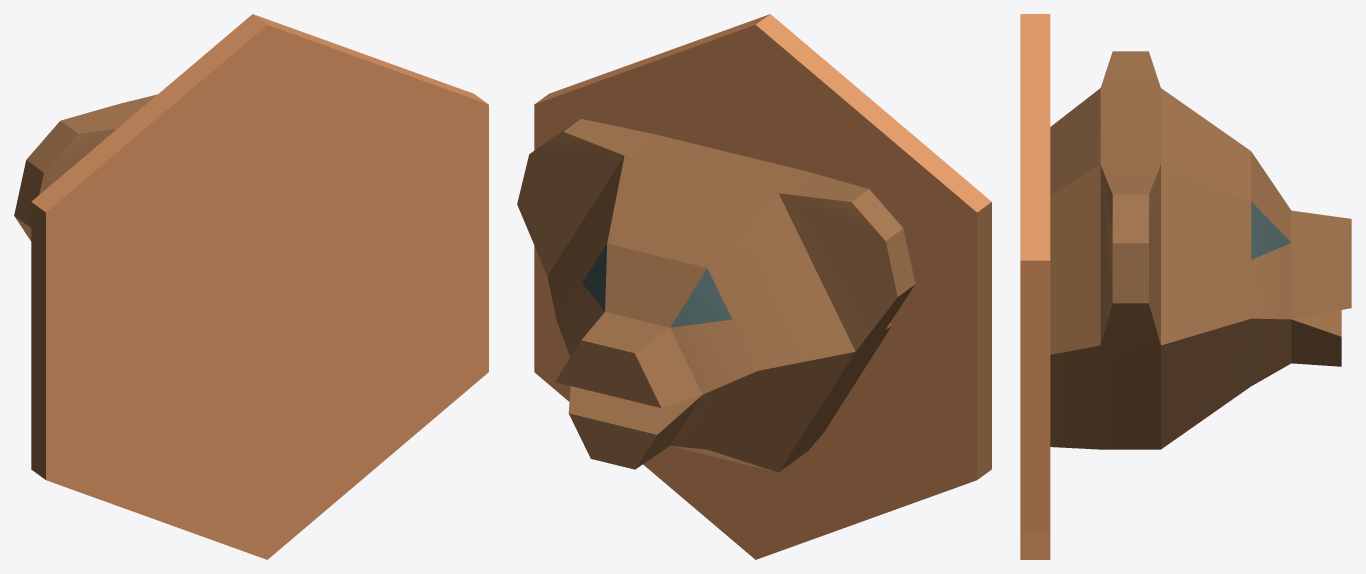
File: bear.obj
The picture shows the model from 3 angles, left to right: view 1: azimuth 30°, elevation 25°; view 2: azimuth 150°, elevation 25°; view 3: azimuth 270°, elevation 25°; orthographic projection. The views are drawn at different scales.
Parts seen in each view (by area): view 1: bear; view 2: bear; view 3: bear.
Boxes of the visible parts, x1,y1,x2,y2 form: bear: (14, 14, 488, 559); bear: (517, 14, 991, 559); bear: (1020, 14, 1351, 559).
Size of the model in its own units: 0.3897 by 0.45 by 0.2475.
